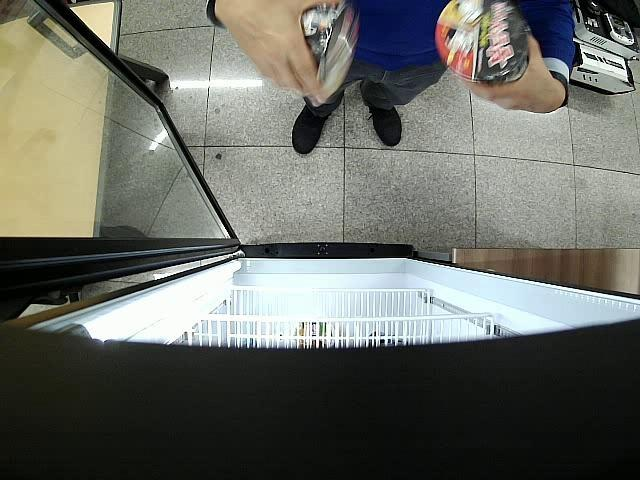07_buldak_L: (436, 0, 532, 81), (302, 0, 358, 105)
